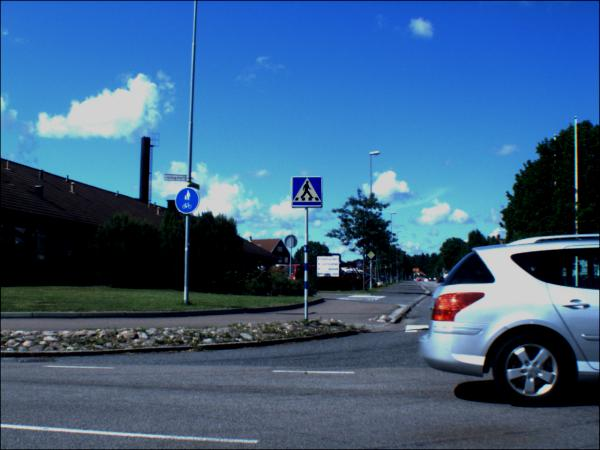PEDESTRIAN_CROSSING: (292, 178, 322, 207)
PRIORITY_ROAD: (366, 251, 377, 262)
